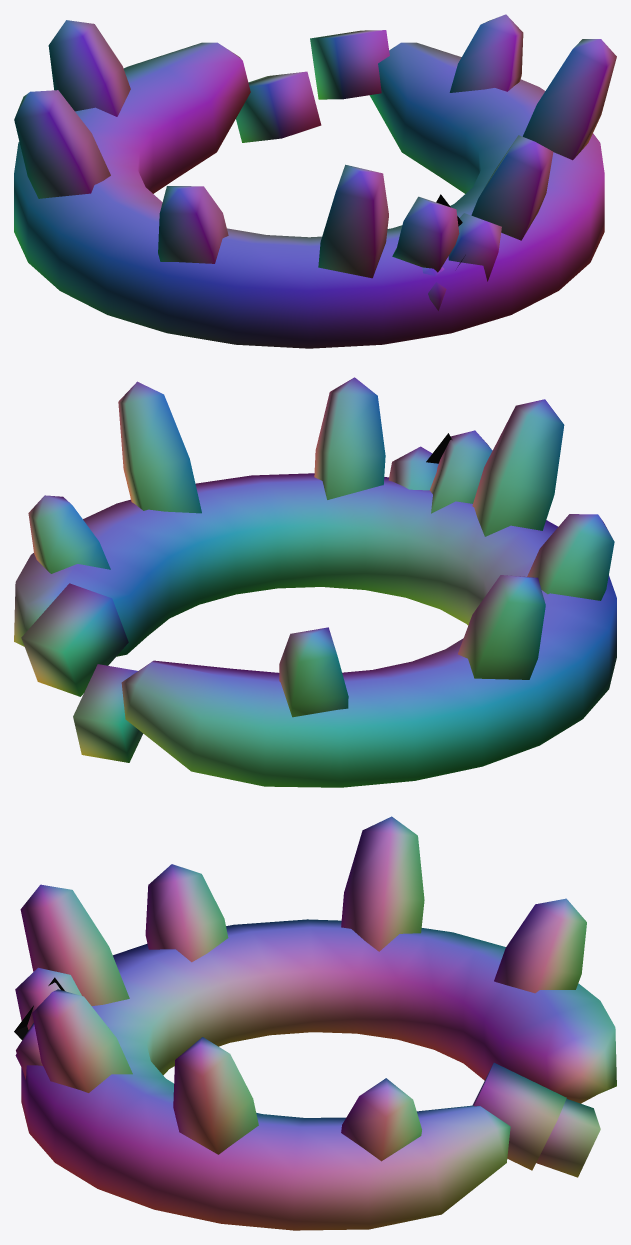
File: SM_FX_EliteSigil.fbx
3 renders of one model, top to bottom at view 1: azimuth 30°, elevation 25°; view 2: azimuth 150°, elevation 25°; view 3: azimuth 270°, elevation 25°, orthographic. The views are drawn at different scales.
Visible parts, largest first — view 1: SM_FX_EliteSigil; view 2: SM_FX_EliteSigil; view 3: SM_FX_EliteSigil.
Boxes of the visible parts, box(x1,y1,x2,y2) form: SM_FX_EliteSigil: box(14, 14, 616, 348); SM_FX_EliteSigil: box(14, 377, 616, 787); SM_FX_EliteSigil: box(14, 816, 616, 1230).
Size of the model in its own units: 0.3266 by 0.12 by 0.3266.
